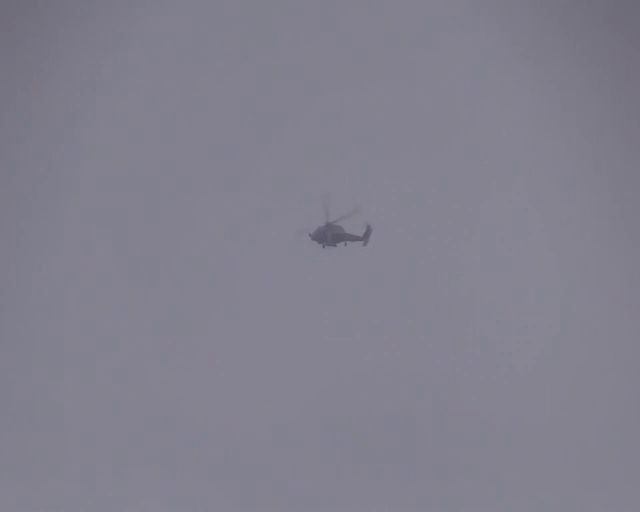HELICOPTER: (307, 199, 372, 249)
